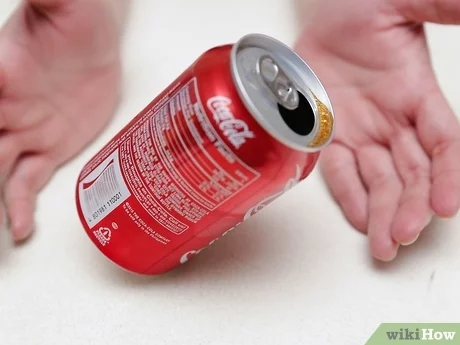can: (72, 28, 338, 279)
